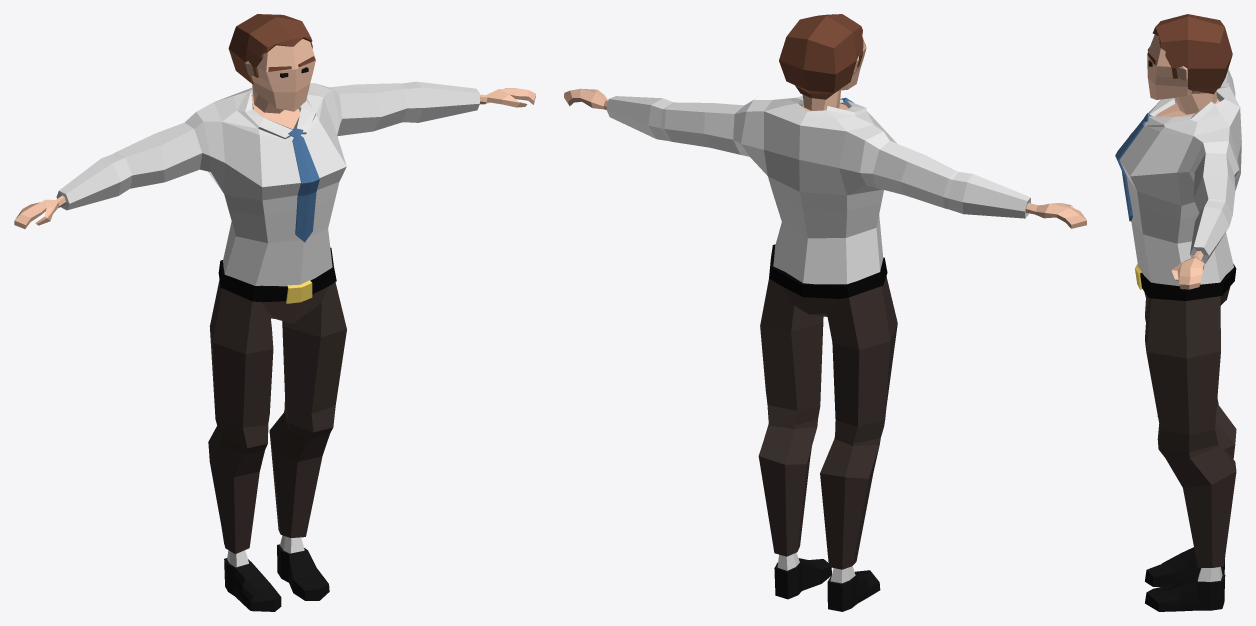
File: customer-male.fbx
3 renders of one model, left to right at view 1: azimuth 30°, elevation 25°; view 2: azimuth 150°, elevation 25°; view 3: azimuth 270°, elevation 25°, orthographic.
Visible parts, largest first — view 1: Shirt, Pants, Body, Shoes, Hair, Tie, Belt; view 2: Shirt, Pants, Hair, Body, Shoes, Belt; view 3: Shirt, Pants, Hair, Body, Shoes, Belt, Tie.
Part boxes in pixels (x1,y1,x2,y2): Shirt: (56, 81, 479, 286); Pants: (208, 280, 346, 553); Body: (14, 39, 535, 567); Shoes: (224, 544, 329, 611); Hair: (228, 14, 312, 84); Tie: (288, 128, 319, 242); Belt: (218, 247, 336, 302); Shirt: (606, 96, 1030, 284); Pants: (758, 276, 897, 569); Hair: (779, 14, 863, 99); Body: (564, 36, 1086, 583); Shoes: (774, 558, 880, 611); Belt: (769, 244, 887, 298); Shirt: (1119, 69, 1241, 286); Pants: (1144, 287, 1236, 567); Hair: (1152, 14, 1232, 94); Body: (1147, 34, 1222, 581); Shoes: (1145, 547, 1225, 611); Belt: (1140, 264, 1236, 300); Tie: (1115, 113, 1152, 221).
Bounding box in the file's own units: 166 × 175 × 34.85.
